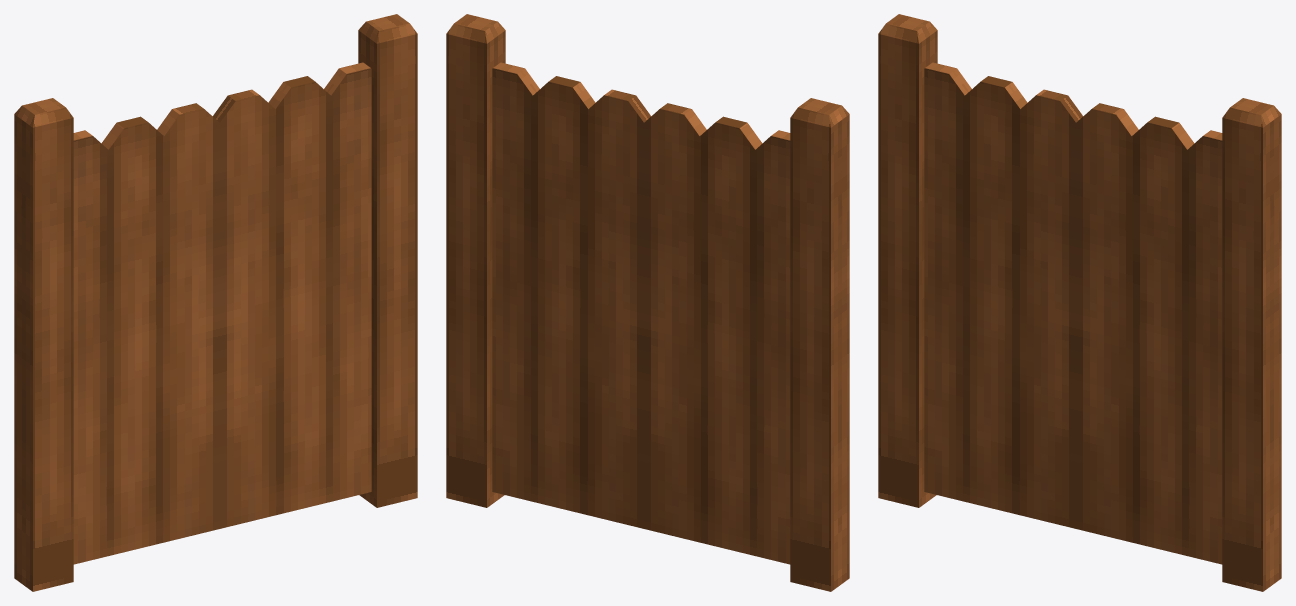
File: fence1.glb
The picture shows the model from 3 angles, left to right: view 1: azimuth 30°, elevation 25°; view 2: azimuth 150°, elevation 25°; view 3: azimuth 330°, elevation 25°; orthographic projection.
Parts seen in each view (by area): view 1: Cube.034; view 2: Cube.034; view 3: Cube.034.
Part boxes in pixels (<box>): Cube.034: <box>14,14,417,591</box>; Cube.034: <box>446,14,849,591</box>; Cube.034: <box>878,14,1281,591</box>.
Bounding box in the file's own units: 8.01 × 9.42 × 0.6714.
1 material, 1 textured.
